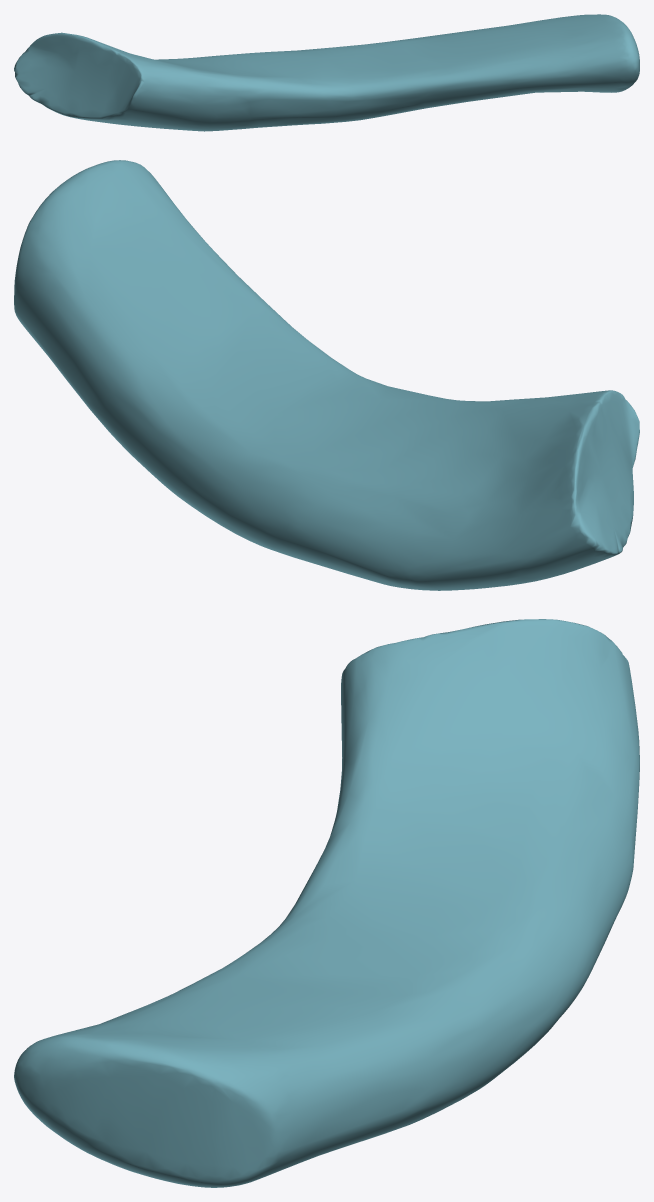
3 renders of one model, top to bottom at view 1: azimuth 30°, elevation 25°; view 2: azimuth 150°, elevation 25°; view 3: azimuth 270°, elevation 25°, orthographic. The views are drawn at different scales.
Visible parts, largest first — view 1: 右侧第五肋软骨; view 2: 右侧第五肋软骨; view 3: 右侧第五肋软骨.
Part boxes in pixels (x1=…): 右侧第五肋软骨: x1=14, y1=14, x2=639, y2=131; 右侧第五肋软骨: x1=14, y1=160, x2=639, y2=590; 右侧第五肋软骨: x1=14, y1=619, x2=639, y2=1187.
Size of the model in its own units: 0.0967 by 0.0241 by 0.058.
